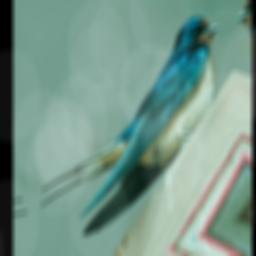Swallow: (25, 4, 237, 256)
